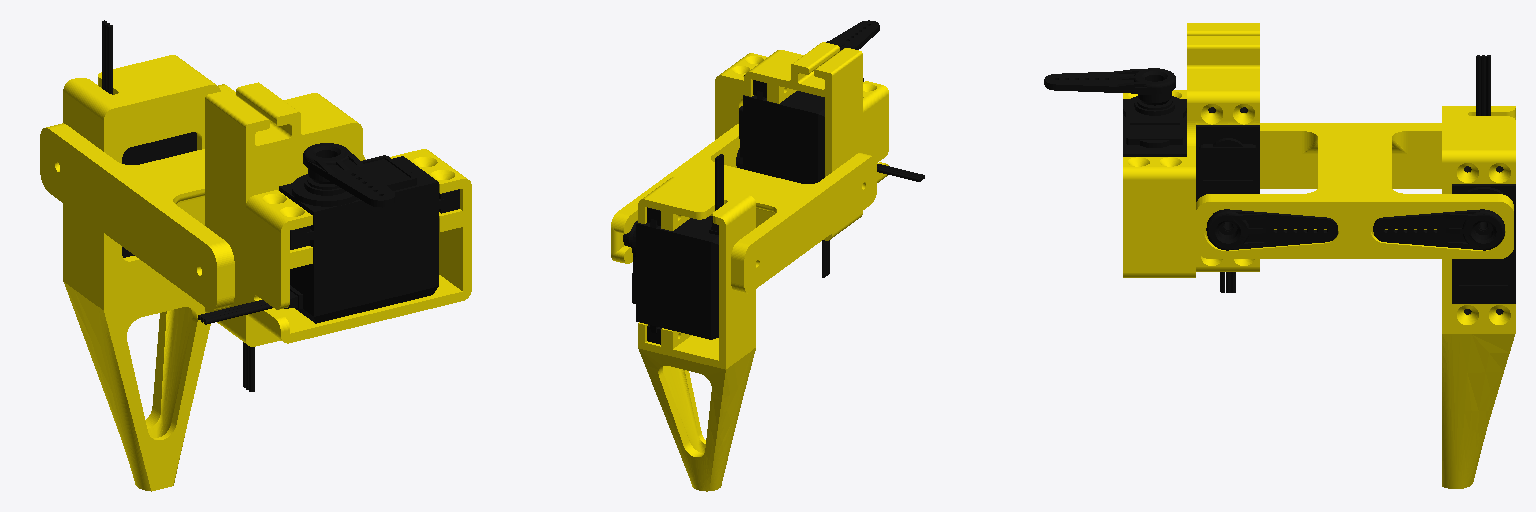
URDF robot description (hexapod):
<robot name="hexapod">

    <link name="left_hip">
      <visual>
        <origin rpy="0 0 0" xyz="0 0 0" />
        <geometry>
          <mesh filename="package://servo/meshes/LeftHip_V15.stl" scale="0.001 0.001 0.001" />
        </geometry>
        <material name="yellow">
            <color rgba="0.98 0.90 0.04 1"/>
        </material>
      </visual>
    </link>

    <link name="left_front_yaw_servo_base">
      <visual>
        <origin xyz="0 0 0"/>
        <geometry>
          <mesh filename="package://servo/meshes/Servo.stl"/>
        </geometry>
        <material name="dark_grey">
            <color rgba="0.1 0.1 0.1 1"/>
        </material>
      </visual>
    </link>

    <link name="left_front_pitch_servo_base">
      <visual>
        [<origin xyz="0 0 0"/>
        <geometry>
          <mesh filename="package://servo/meshes/Servo.stl"/>
        </geometry>
        <material name="dark_grey"/>
      </visual>
    </link>

    <link name="left_front_yaw_servo_horn">
      <visual>
        <origin xyz="0 0 0" />
        <geometry>
          <mesh filename="package://servo/meshes/ServoHorn.stl"/>
        </geometry>
        <material name="dark_grey"/>
      </visual>
    </link>

    <link name="left_front_pitch_servo_horn">
      <visual>
        <origin xyz="0 0 0" />
        <geometry>
          <mesh filename="package://servo/meshes/ServoHorn.stl"/>
        </geometry>
        <material name="dark_grey"/>
      </visual>
    </link>

    <link name="left_front_thigh">
        <visual>
            <origin xyz="0.090 0.02921 -0.00995" />
            <geometry>
                <mesh filename="package://servo/meshes/Thigh_V15.stl" scale="0.001 0.001 0.001" />
            </geometry>
            <material name="yellow"/>
        </visual>
    </link>

    <link name="left_front_knee_servo_horn">
        <visual>
            <origin xyz="0 0 0" />
            <geometry>
                <mesh filename="package://servo/meshes/ServoHorn.stl"/>
            </geometry>
            <material name="dark_grey"/>
        </visual>
    </link>

    <link name="left_front_knee_servo_base">
        <visual>
            <origin xyz="0 0 0"/>
            <geometry>
                <mesh filename="package://servo/meshes/Servo.stl"/>
            </geometry>
            <material name="dark_grey"/>
        </visual>
    </link>

    <link name="left_front_shin">
      <visual>
        <origin xyz="0 0 0"/>
        <geometry>
          <mesh filename="package://servo/meshes/LeftShin_V15.stl" scale="0.001 0.001 0.001" />
        </geometry>
        <material name="yellow"/>
      </visual>
    </link>

    <joint name="hip_yaw_servo" type="fixed">
      <origin rpy="0 0 0" xyz="0 -0.00995 0"/>
      <parent link="left_hip"/>
      <child link="left_front_yaw_servo_base"/>
    </joint>

    <joint name="hip_pitch_servo" type="fixed">
      <origin rpy="0 -1.57079632679 3.1415927" xyz="-0.00991 0.01295 0.001005" />
      <parent link="left_hip"/>
      <child link="left_front_pitch_servo_base"/>
    </joint>

    <joint name="swivel" type="continuous">
      <origin rpy="3.1415927 0 -1.57079632679" xyz="-0.01035 0 0.0292" />
      <axis xyz="0 0 -1" />
      <parent link="left_front_yaw_servo_base"/>
      <child link="left_front_yaw_servo_horn"/>
    </joint>

    <joint name="left_front_pitch_swivel" type="continuous">
      <origin rpy="3.1415927 0 -1.57079632679" xyz="-0.01035 0 0.0292" />
      <axis xyz="0 0 -1" />
      <parent link="left_front_pitch_servo_base"/>
      <child link="left_front_pitch_servo_horn"/>
    </joint>

    <joint name="left_front_thigh" type="fixed">
        <origin rpy="1.5707963 0 0" xyz="0 0 0"/>
        <parent link="left_front_pitch_servo_horn"/>
        <child link="left_front_thigh"/>
    </joint>

    <joint name="left_front_knee" type="fixed">
        <origin rpy="-1.5707963 3.1415927 0" xyz="0.080 0 0"/>
        <parent link="left_front_thigh"/>
        <child link="left_front_knee_servo_horn"/>
    </joint>

    <joint name="left_front_knee_swivel" type="continuous">
      <origin rpy="3.1415927 0 -1.5707963" xyz="0 -0.01035 0.0292" />
      <axis xyz="0 0 -1" />
      <parent link="left_front_knee_servo_horn"/>
      <child link="left_front_knee_servo_base"/>
    </joint>

    <joint name="left_front_shin" type="fixed">
        <origin rpy="-1.5707963 0 0" xyz="0 -0.00995 0"/>
        <parent link="left_front_knee_servo_base"/>
        <child link="left_front_shin"/>
    </joint>
</robot>

--- Render facts (derived) ---
Views: 3 orthographic renders of the robot side by side, from view 1: azimuth 30°, elevation 25°; view 2: azimuth 150°, elevation 25°; view 3: azimuth 270°, elevation 25°.
Model hexapod with 9 links and 8 joints (3 continuous, 5 fixed), rooted at left_hip, posed every joint at zero.
Links seen in each view (by area): view 1: left_front_shin, left_hip, left_front_yaw_servo_base, left_front_thigh, left_front_yaw_servo_horn, left_front_knee_servo_base, left_front_pitch_servo_base; view 2: left_front_shin, left_front_thigh, left_hip, left_front_knee_servo_base, left_front_pitch_servo_base, left_front_yaw_servo_horn; view 3: left_front_thigh, left_hip, left_front_shin, left_front_pitch_servo_base, left_front_knee_servo_base, left_front_knee_servo_horn, left_front_pitch_servo_horn, left_front_yaw_servo_base, left_front_yaw_servo_horn.
Link boxes in pixels (x1,y1,x2,y2): left_front_shin: (63,55,220,491); left_hip: (205,82,471,346); left_front_yaw_servo_base: (198,155,459,324); left_front_thigh: (40,84,235,310); left_front_yaw_servo_horn: (303,143,394,207); left_front_knee_servo_base: (102,20,196,257); left_front_pitch_servo_base: (243,342,254,391); left_front_shin: (638,177,755,491); left_front_thigh: (611,124,876,293); left_hip: (715,42,888,240); left_front_knee_servo_base: (632,154,723,344); left_front_pitch_servo_base: (739,80,829,277); left_front_yaw_servo_horn: (826,20,879,50); left_front_thigh: (1196,123,1513,258); left_hip: (1123,23,1259,277); left_front_shin: (1442,106,1515,488); left_front_pitch_servo_base: (1196,107,1259,292); left_front_knee_servo_base: (1452,55,1515,314); left_front_knee_servo_horn: (1373,209,1504,250); left_front_pitch_servo_horn: (1206,209,1337,250); left_front_yaw_servo_base: (1123,96,1186,156); left_front_yaw_servo_horn: (1044,68,1175,105).
Size in the robot's own frame: 0.0822 by 0.1474 by 0.1501 metres.
Meshes: 5 distinct files referenced, 9 mesh visuals loaded (5 binary STL).